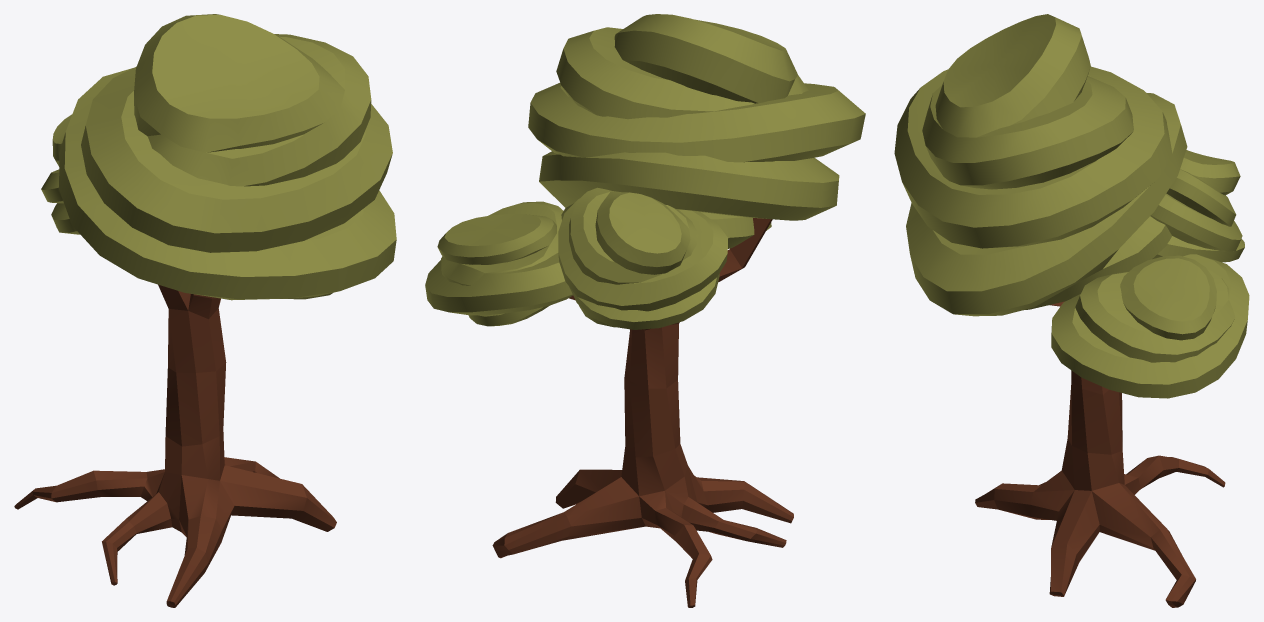
File: Oak.fbx
The picture shows the model from 3 angles, left to right: view 1: azimuth 30°, elevation 25°; view 2: azimuth 150°, elevation 25°; view 3: azimuth 270°, elevation 25°; orthographic projection. The views are drawn at different scales.
Parts seen in each view (by area): view 1: Oak; view 2: Oak; view 3: Oak.
Boxes of the visible parts, x1,y1,x2,y2 form: Oak: [14, 14, 396, 607]; Oak: [425, 14, 865, 607]; Oak: [894, 14, 1249, 607].
Bounding box in the file's own units: 12.27 × 18.59 × 11.48.
1 material, 1 textured.
